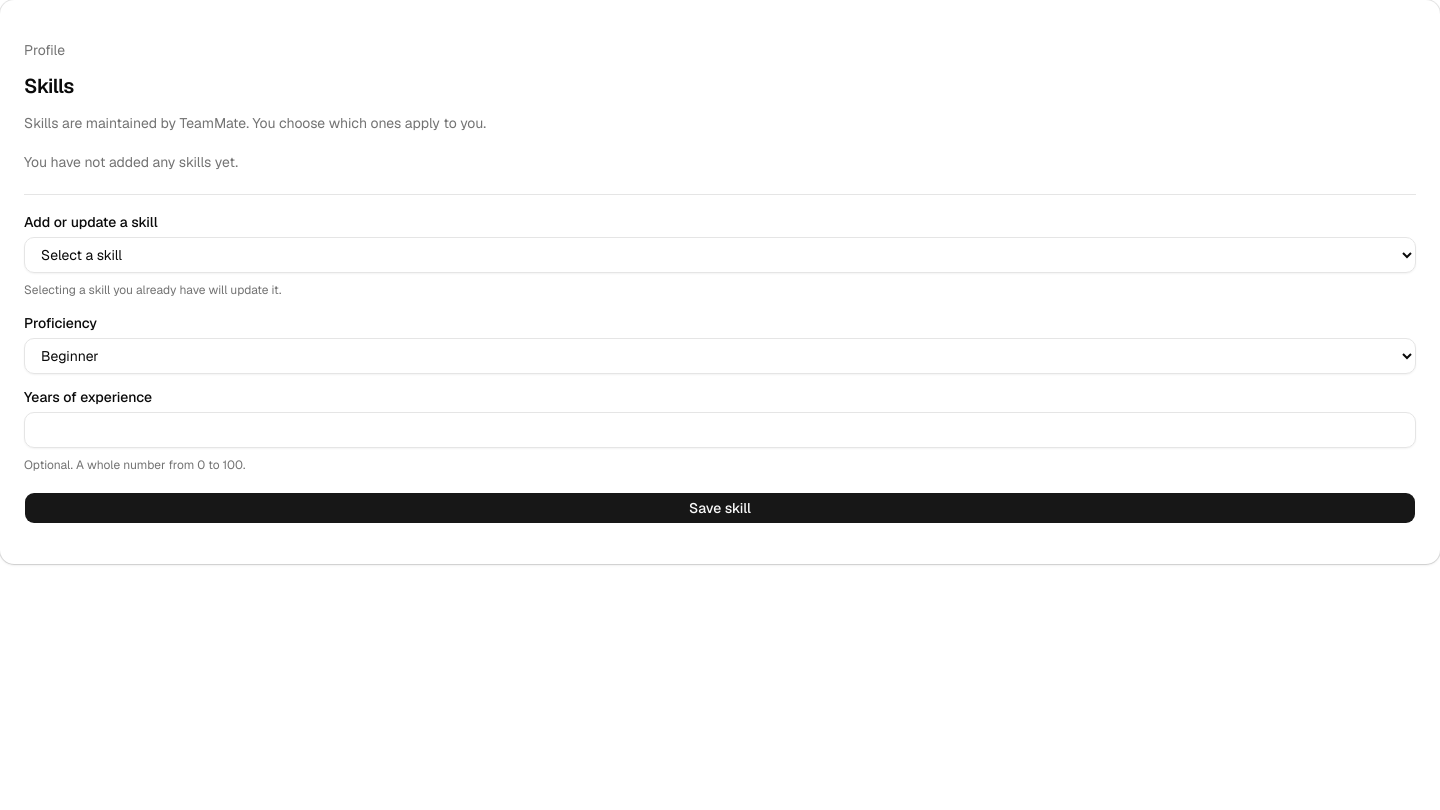
Test: skills section › submits the selected skill, proficiency, and years
Select "TypeScript" in the dropdown labelled "Add or update a skill" at (720, 254), box [24,236,1416,272]
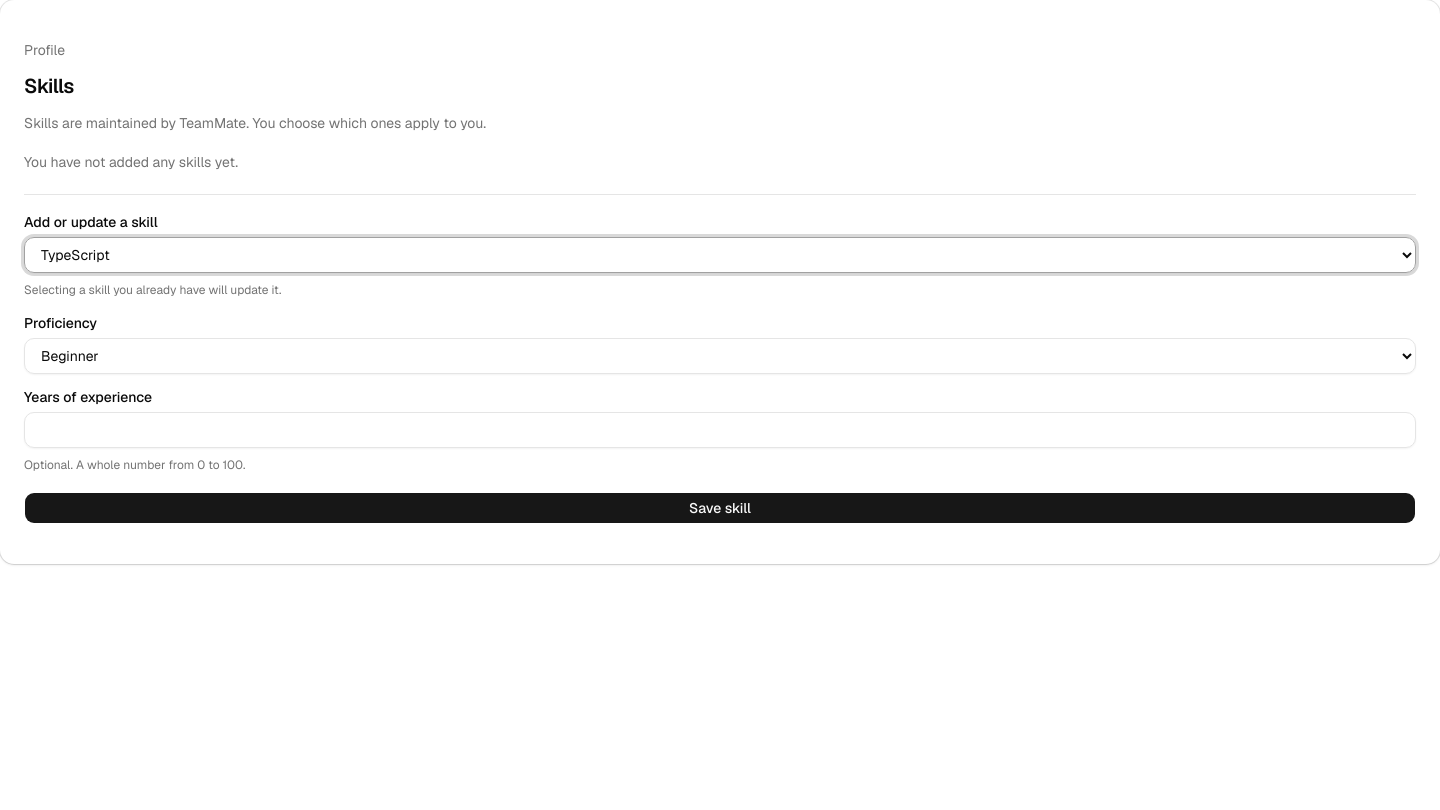
Select "Expert" in the dropdown labelled "Proficiency" at (720, 356), box [24,338,1416,374]
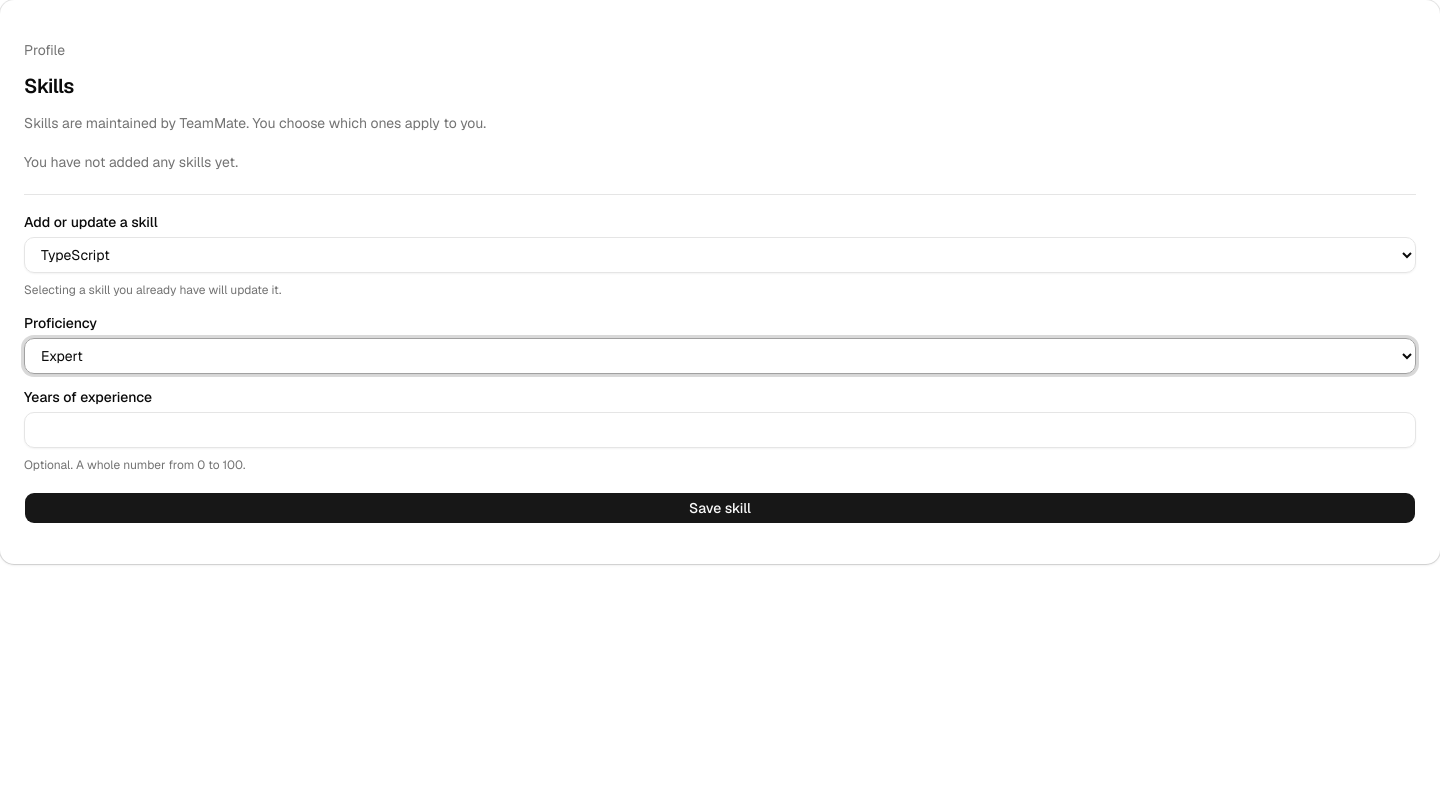
Type "7" into the number field labelled "Years of experience".
click(720, 430); type("7")  # box [24,412,1416,448]
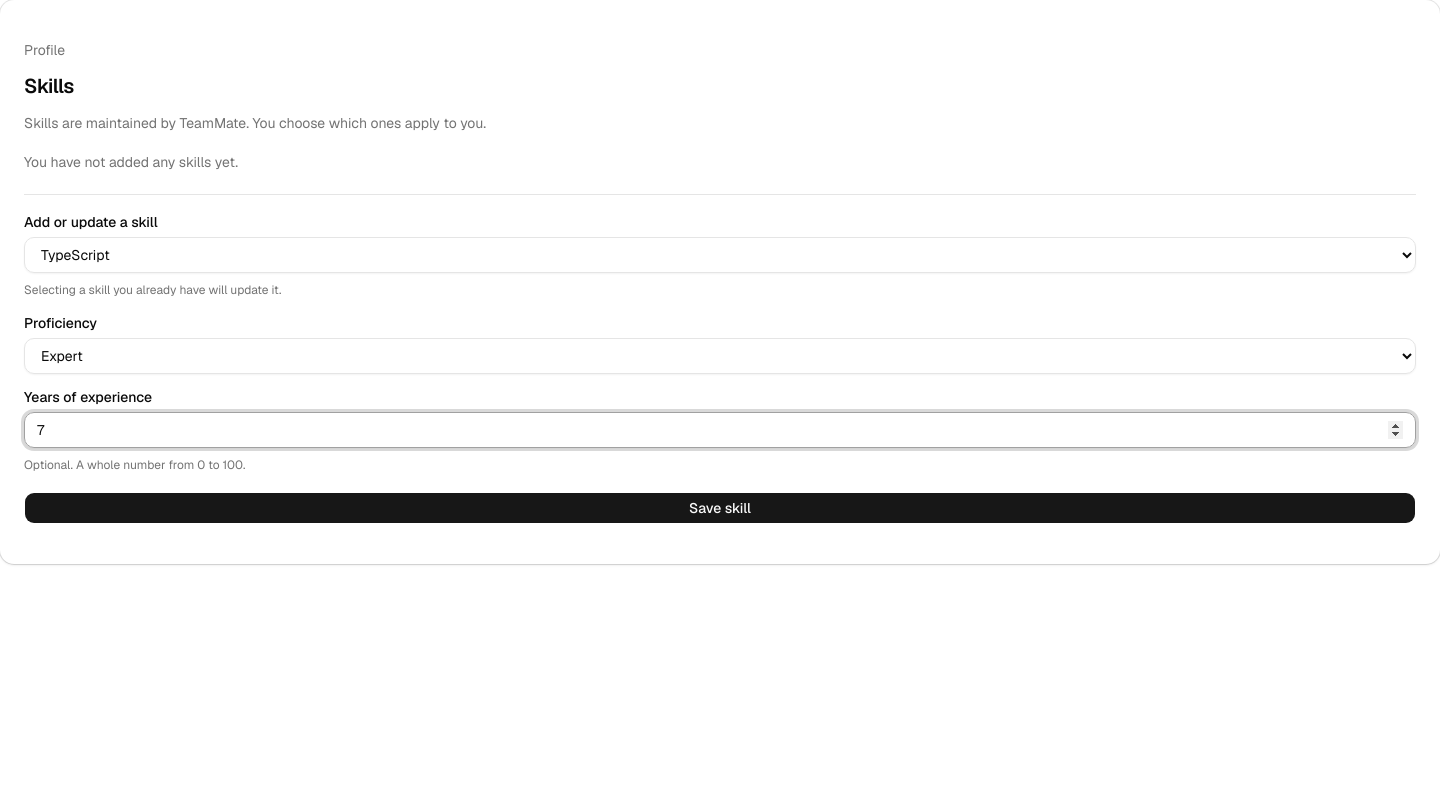
Click the button "Save skill".
click(720, 508)  # box [24,492,1416,524]
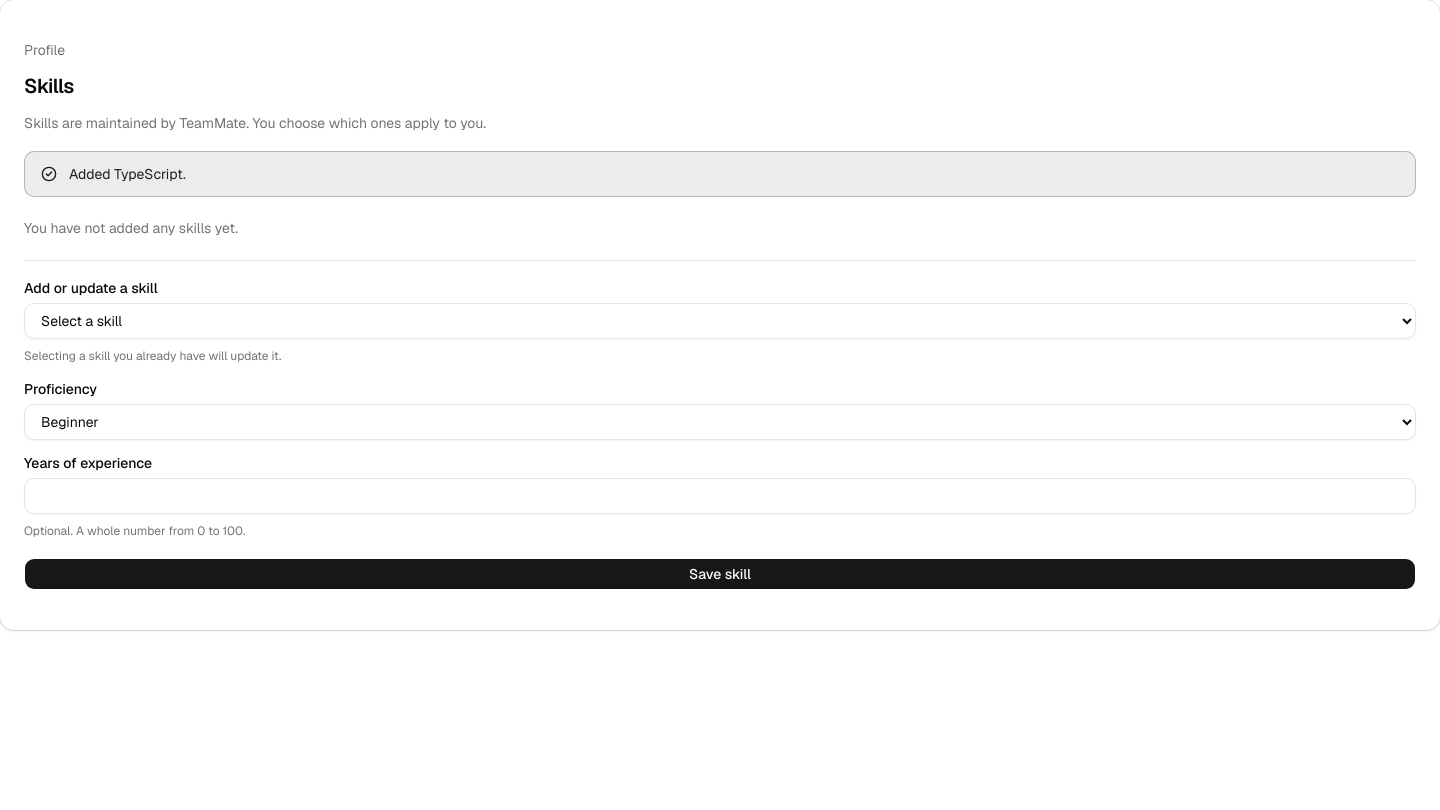
Result: the text "Added TypeScript." is shown at [69,165,186,183]
